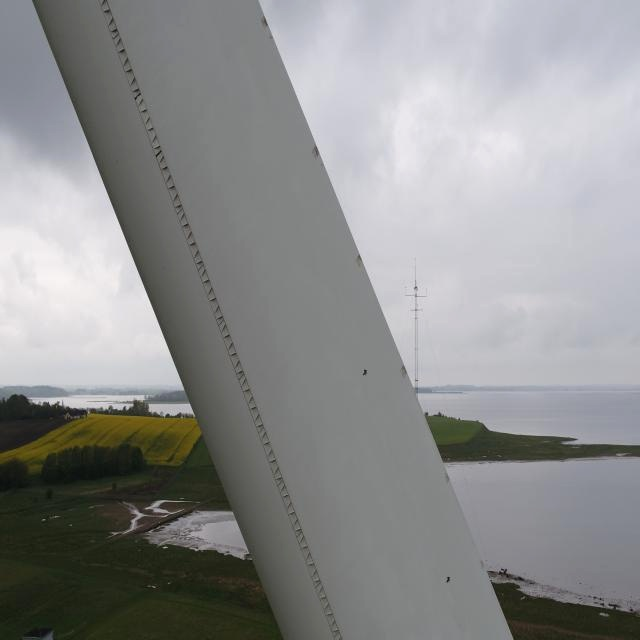Coating_defects: (261, 12, 275, 40), (396, 362, 412, 381), (309, 141, 324, 161), (441, 466, 454, 488), (354, 249, 366, 270), (478, 558, 487, 572)
